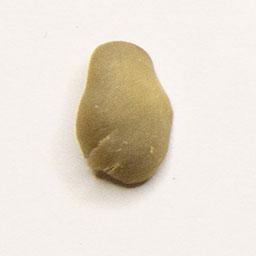defect: (71, 37, 177, 189)
